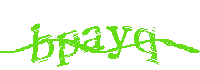a: (81, 24, 103, 53)
b: (30, 20, 53, 63)
p: (55, 30, 81, 67)
q: (133, 25, 162, 66)
y: (107, 21, 130, 63)
